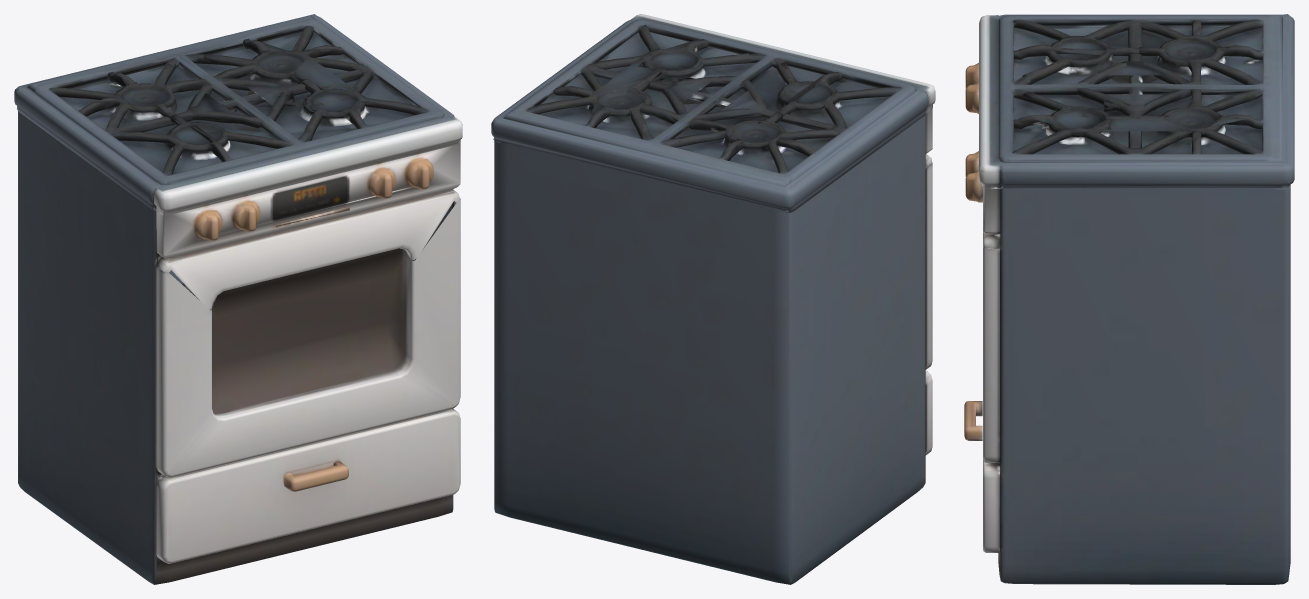
The model's file is oven_everyday_realistic_style_3e9715f0_v4.glb.
3 views of the same model, side by side, from view 1: azimuth 30°, elevation 25°; view 2: azimuth 150°, elevation 25°; view 3: azimuth 270°, elevation 25° (orthographic). The views are drawn at different scales.
Parts seen in each view (by area): view 1: mesh_input; view 2: mesh_input; view 3: mesh_input.
Part boxes in pixels (<box>): mesh_input: <box>14,14,462,584</box>; mesh_input: <box>491,14,935,584</box>; mesh_input: <box>964,14,1294,584</box>.
Size of the model in its own units: 1.49 by 1.92 by 1.33.
Materials: 1 (1 with a texture image).
